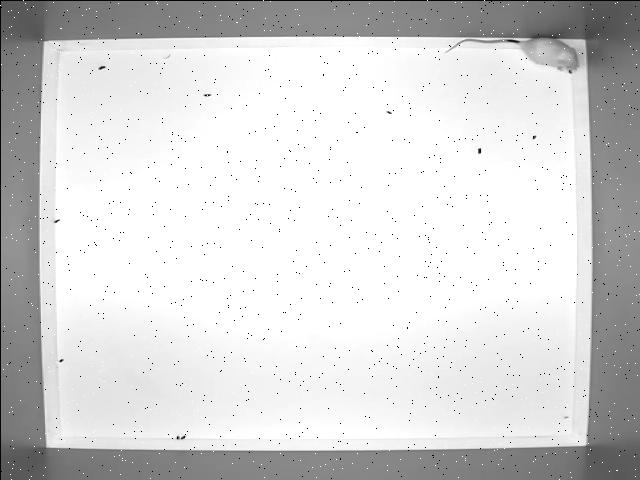Tikus: (441, 31, 581, 78)
